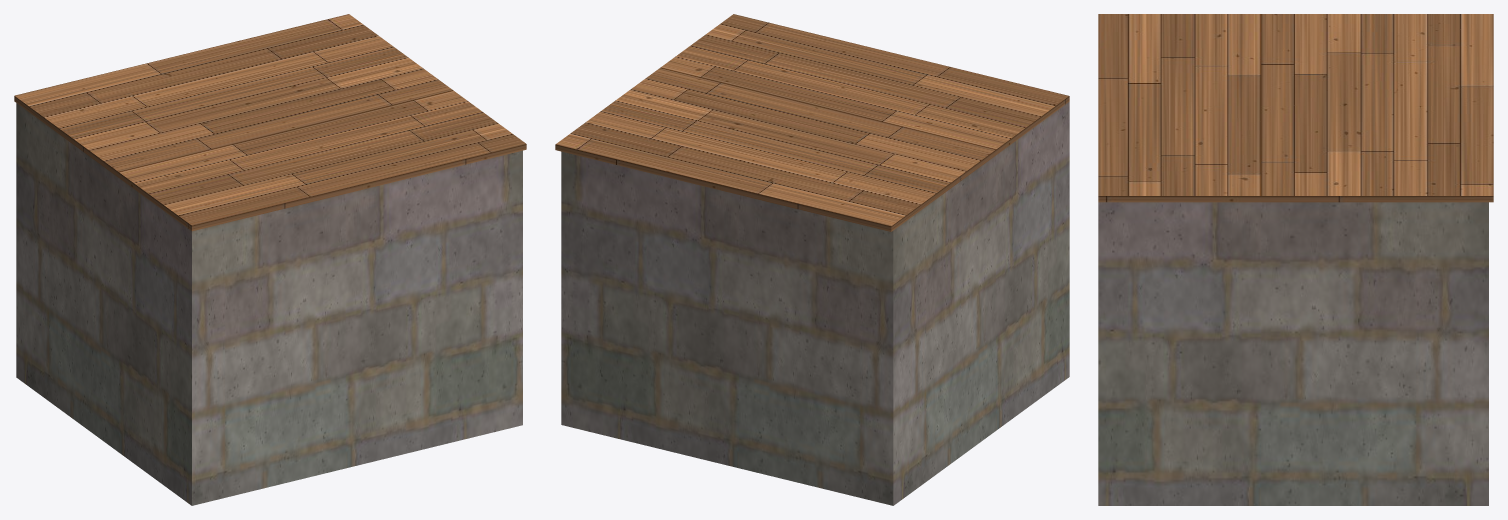
Rendered from floor_wood_g_e15_0_0_30.glb.
3 renders of one model, left to right at view 1: azimuth 30°, elevation 25°; view 2: azimuth 150°, elevation 25°; view 3: azimuth 270°, elevation 25°, orthographic. The views are drawn at different scales.
Visible parts, largest first — view 1: floor_wood_g_e15_0_0_30_plinth, floor_wood_g_e15_0_0_30_floor; view 2: floor_wood_g_e15_0_0_30_plinth, floor_wood_g_e15_0_0_30_floor; view 3: floor_wood_g_e15_0_0_30_plinth, floor_wood_g_e15_0_0_30_floor.
Boxes of the visible parts, bbox=[...] form: floor_wood_g_e15_0_0_30_plinth: bbox=[16, 103, 522, 505]; floor_wood_g_e15_0_0_30_floor: bbox=[14, 14, 526, 231]; floor_wood_g_e15_0_0_30_plinth: bbox=[561, 102, 1069, 505]; floor_wood_g_e15_0_0_30_floor: bbox=[555, 14, 1069, 231]; floor_wood_g_e15_0_0_30_plinth: bbox=[1098, 202, 1488, 505]; floor_wood_g_e15_0_0_30_floor: bbox=[1098, 14, 1493, 202].
Size of the model in its own units: 1.85 by 1.48 by 1.7.
Materials: 2 (2 with a texture image).
